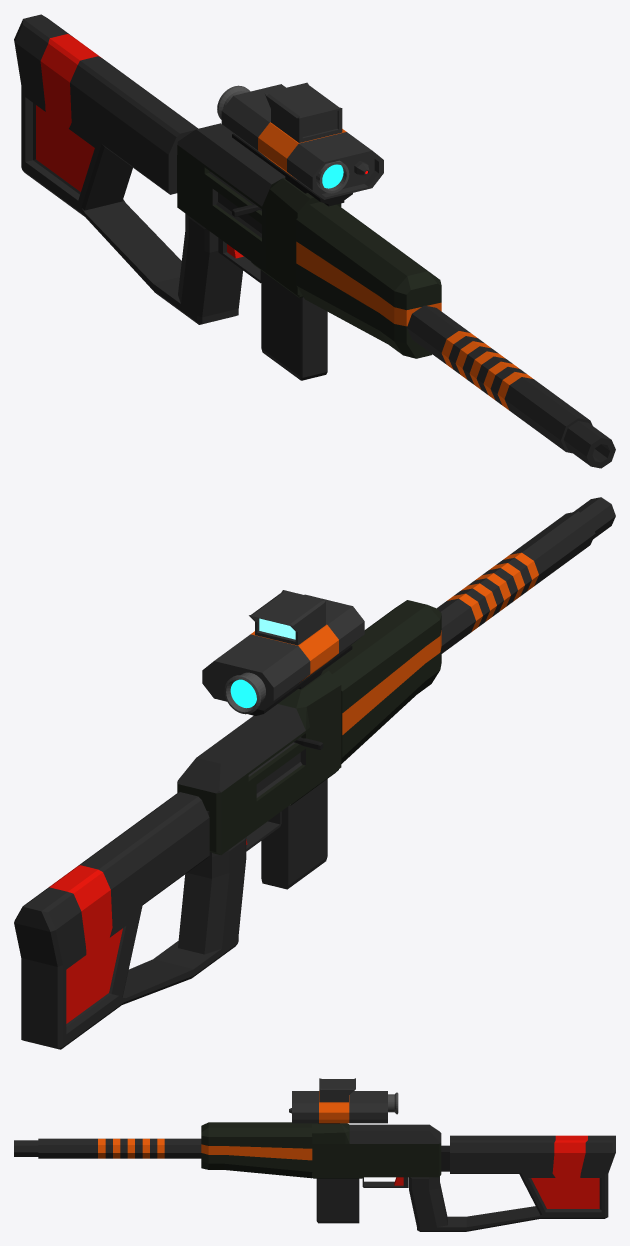
The model's file is spiner.glb.
3 renders of one model, top to bottom at view 1: azimuth 30°, elevation 25°; view 2: azimuth 150°, elevation 25°; view 3: azimuth 270°, elevation 25°, orthographic. The views are drawn at different scales.
Visible parts, largest first — view 1: Handle and stock_3, Barrel Shroud_1, Body_8, Scope_5, Barrel_0, Magazine_4, Sight mount_6; view 2: Handle and stock_3, Body_8, Scope_5, Barrel Shroud_1, Barrel_0, Magazine_4; view 3: Handle and stock_3, Body_8, Barrel Shroud_1, Barrel_0, Scope_5, Magazine_4.
Part boxes in pixels (box(x1,y1,x2,y2)): Handle and stock_3: box(14, 14, 261, 324); Barrel Shroud_1: box(296, 202, 441, 358); Body_8: box(177, 123, 341, 298); Scope_5: box(217, 82, 383, 199); Barrel_0: box(407, 305, 615, 468); Magazine_4: box(261, 270, 327, 380); Sight mount_6: box(232, 133, 352, 206); Handle and stock_3: box(14, 792, 281, 1049); Body_8: box(177, 669, 341, 855); Scope_5: box(202, 590, 364, 714); Barrel Shroud_1: box(325, 600, 441, 763); Barrel_0: box(437, 497, 615, 653); Magazine_4: box(261, 779, 327, 889); Handle and stock_3: box(362, 1135, 615, 1231); Body_8: box(312, 1123, 441, 1178); Barrel Shroud_1: box(201, 1122, 312, 1178); Barrel_0: box(14, 1138, 201, 1158); Scope_5: box(289, 1078, 398, 1123); Magazine_4: box(316, 1178, 359, 1223).
Size of the model in its own units: 0.3185 by 0.9323 by 3.5.
